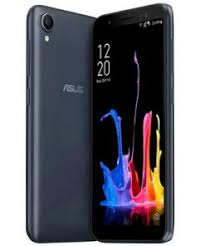asus: (91, 2, 178, 243), (23, 4, 94, 243)
